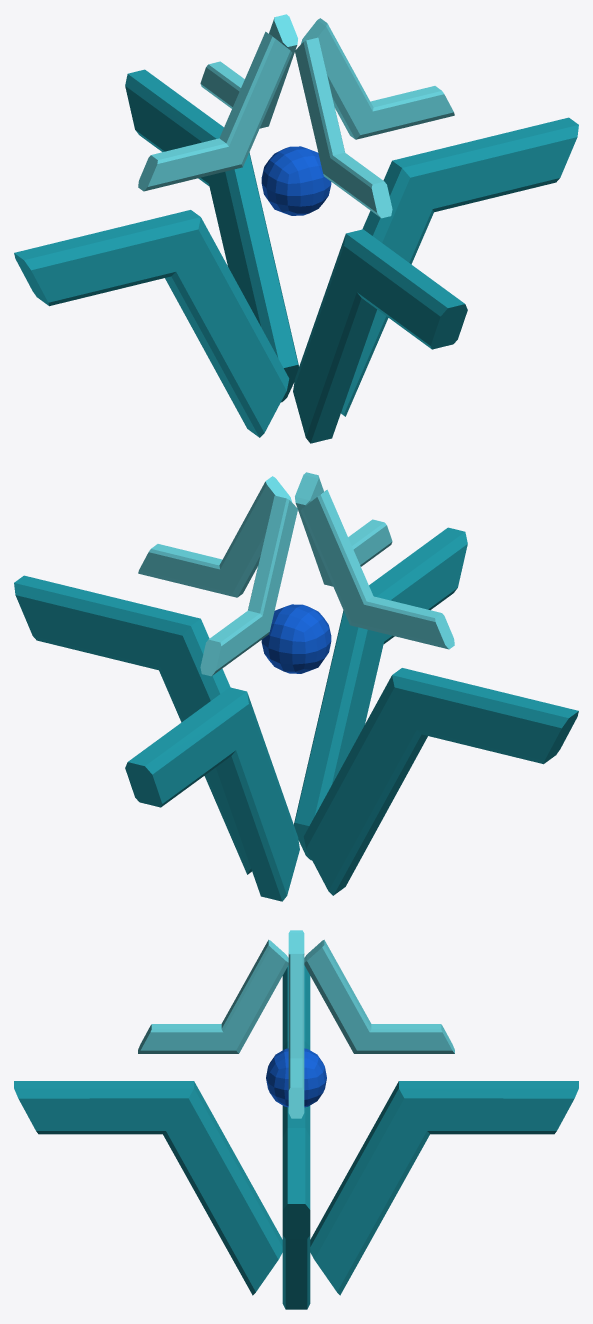
The model's file is BlueEnemy.FBX.
The picture shows the model from 3 angles, top to bottom: view 1: azimuth 30°, elevation 25°; view 2: azimuth 150°, elevation 25°; view 3: azimuth 270°, elevation 25°; orthographic projection. The views are drawn at different scales.
Parts seen in each view (by area): view 1: enemy_blueBot_002, enemy_blueBot_004, enemy_blueBot_001, enemy_blueBot_003, enemy_blueTop_002, enemy_blueTop_001, enemy_blueTop_004, enemy_blueCore, enemy_blueTop_003; view 2: enemy_blueBot_002, enemy_blueBot_003, enemy_blueBot_001, enemy_blueBot_004, enemy_blueTop_002, enemy_blueTop_001, enemy_blueTop_003, enemy_blueCore, enemy_blueTop_004; view 3: enemy_blueBot_004, enemy_blueBot_003, enemy_blueTop_004, enemy_blueTop_003, enemy_blueBot_001, enemy_blueTop_001, enemy_blueCore, enemy_blueBot_002.
Part boxes in pixels (x1=…): enemy_blueBot_002: x1=14, y1=210, x2=289, y2=437; enemy_blueBot_004: x1=293, y1=229, x2=467, y2=443; enemy_blueBot_001: x1=341, y1=117, x2=578, y2=416; enemy_blueBot_003: x1=125, y1=69, x2=298, y2=402; enemy_blueTop_002: x1=138, y1=31, x2=292, y2=191; enemy_blueTop_001: x1=300, y1=18, x2=454, y2=139; enemy_blueTop_004: x1=295, y1=37, x2=392, y2=218; enemy_blueCore: x1=261, y1=146, x2=331, y2=215; enemy_blueTop_003: x1=200, y1=14, x2=297, y2=128; enemy_blueBot_002: x1=303, y1=668, x2=578, y2=895; enemy_blueBot_003: x1=125, y1=687, x2=299, y2=901; enemy_blueBot_001: x1=14, y1=575, x2=251, y2=874; enemy_blueBot_004: x1=294, y1=527, x2=467, y2=860; enemy_blueTop_002: x1=300, y1=489, x2=454, y2=649; enemy_blueTop_001: x1=138, y1=476, x2=292, y2=597; enemy_blueTop_003: x1=200, y1=495, x2=297, y2=676; enemy_blueCore: x1=261, y1=604, x2=331, y2=673; enemy_blueTop_004: x1=295, y1=472, x2=392, y2=586; enemy_blueBot_004: x1=14, y1=1081, x2=282, y2=1295; enemy_blueBot_003: x1=310, y1=1081, x2=578, y2=1295; enemy_blueTop_004: x1=138, y1=939, x2=288, y2=1053; enemy_blueTop_003: x1=304, y1=939, x2=454, y2=1053; enemy_blueBot_001: x1=282, y1=1128, x2=310, y2=1309; enemy_blueTop_001: x1=288, y1=954, x2=304, y2=1118; enemy_blueCore: x1=266, y1=1048, x2=326, y2=1107; enemy_blueBot_002: x1=282, y1=965, x2=310, y2=1137.
Size of the model in its own units: 27.77 by 18.91 by 27.77.
